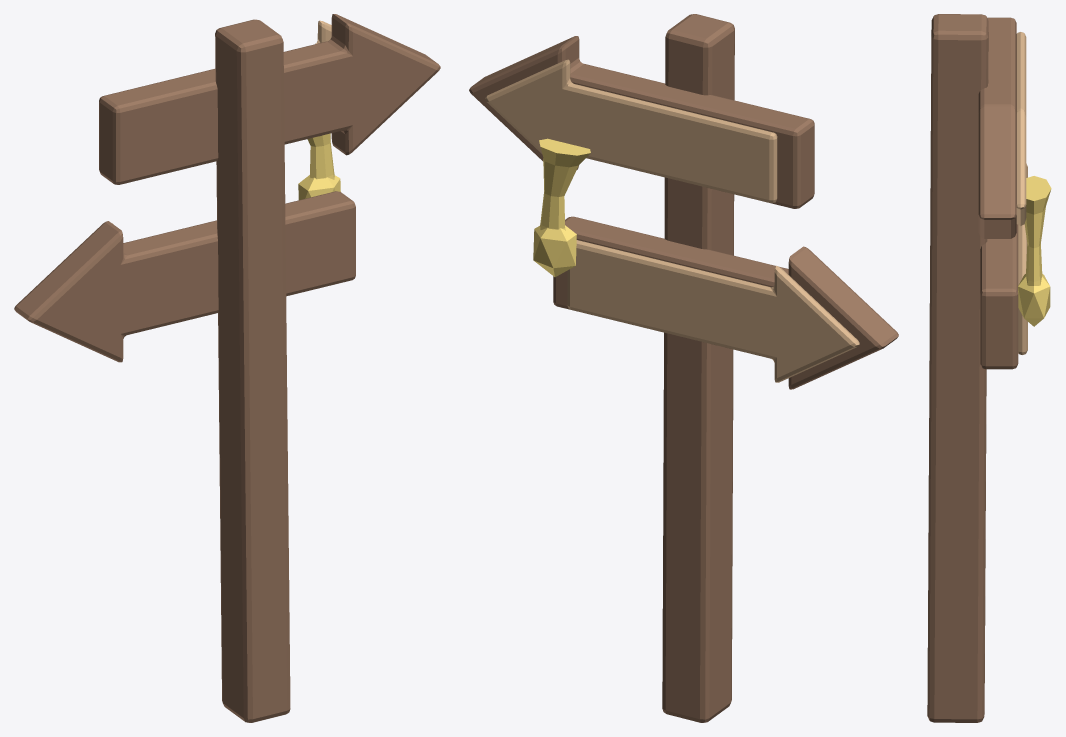
The model's file is Kit_Signpost.fbx.
3 views of the same model, side by side, from view 1: azimuth 30°, elevation 25°; view 2: azimuth 150°, elevation 25°; view 3: azimuth 270°, elevation 25° (orthographic).
Parts seen in each view (by area): view 1: Kit_Signpost; view 2: Kit_Signpost; view 3: Kit_Signpost.
Boxes of the visible parts, x1,y1,x2,y2 form: Kit_Signpost: (14,14,440,722); Kit_Signpost: (469,14,898,722); Kit_Signpost: (927,14,1051,722).
Bounding box in the file's own units: 1.52 × 2.4 × 0.3917.
